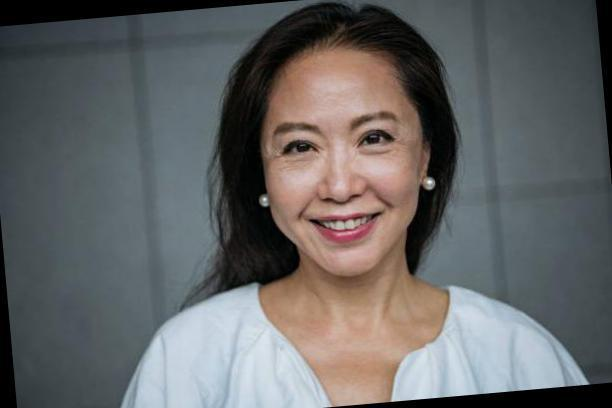Sober: (269, 78, 421, 261)
